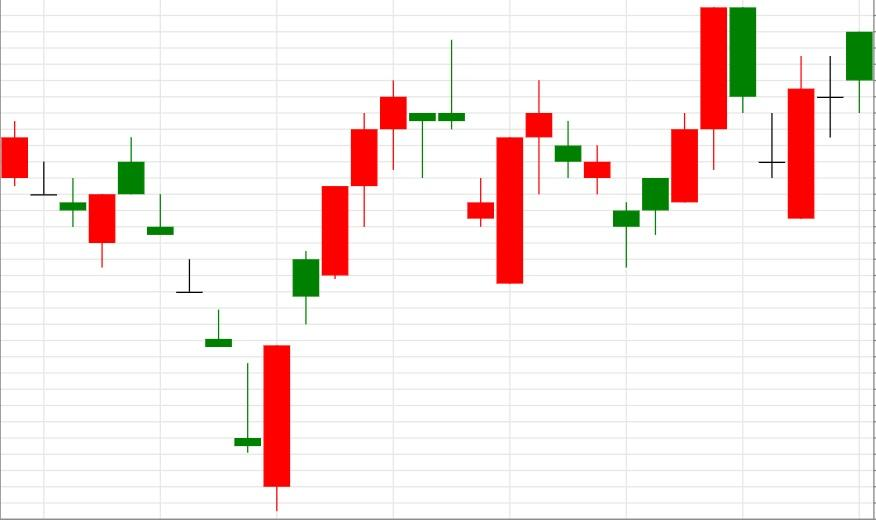bullish_engulfing_rise: (118, 136, 291, 512)
hammer_rise: (525, 79, 640, 268)
